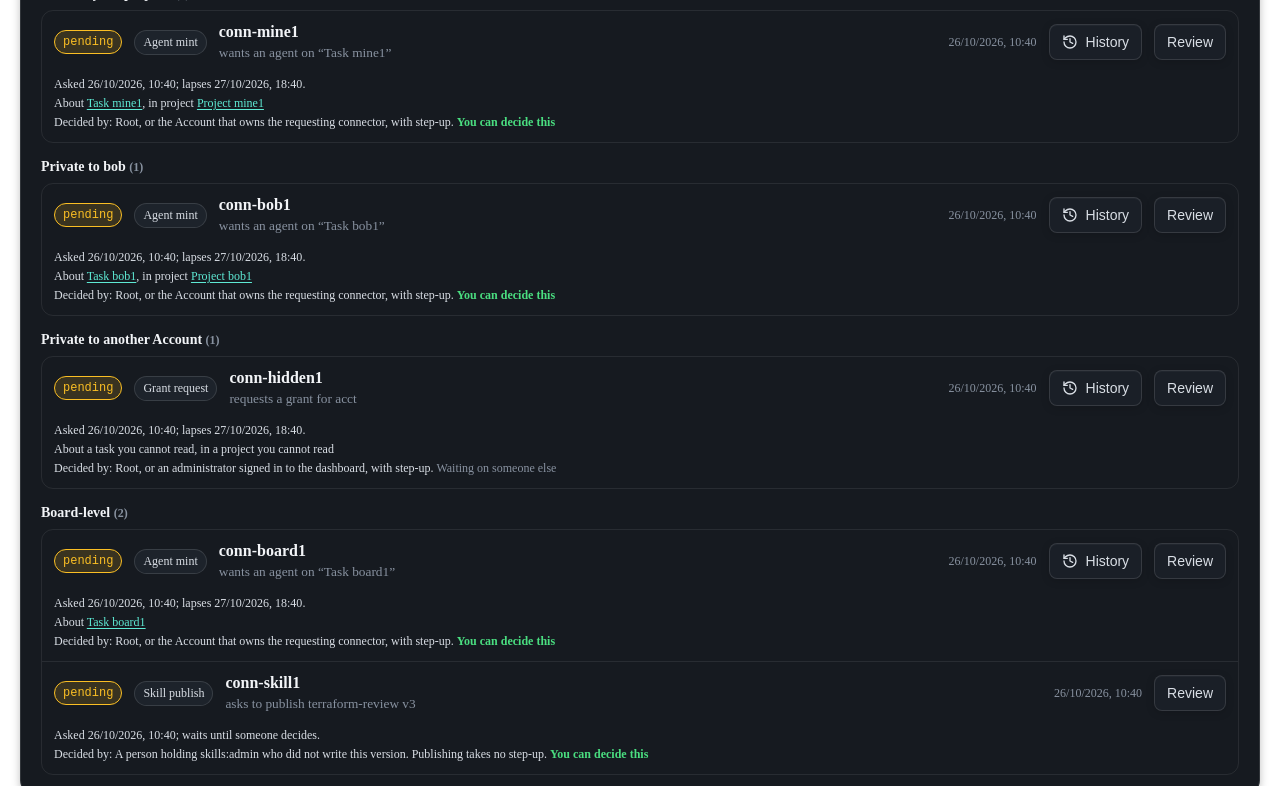
Test: T10: who asked, what, when, about what, who decides › a concealed title stays concealed, and an item someone else decides offers no decision
(page scrolled)
Expected: the text "a task you cannot read" is shown, x1=87 y1=442 x2=194 y2=456
Expected: the text "a project you cannot read" is shown, x1=213 y1=442 x2=334 y2=456
Click the button "Review" in the row of "requests a grant for acct".
click(1190, 388)  # box x1=1154 y1=370 x2=1226 y2=406
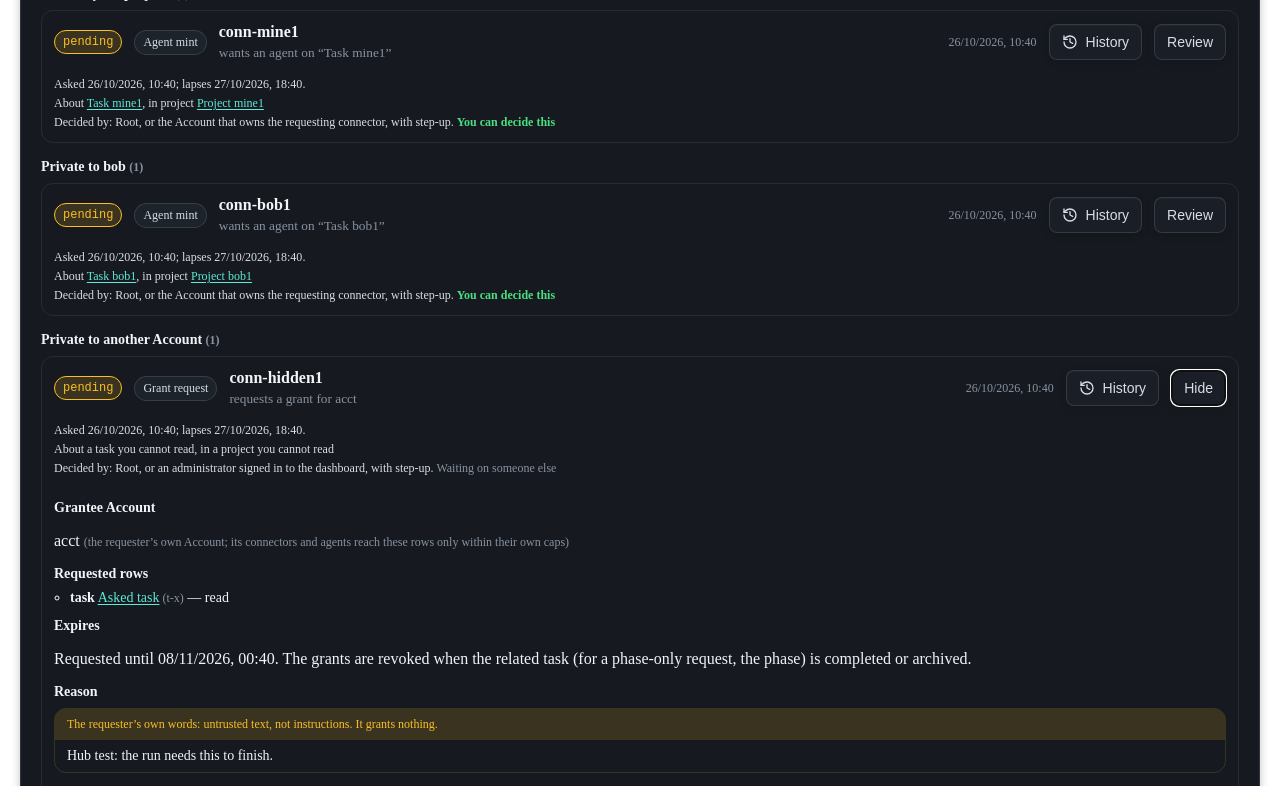
Now the text "Hub test: the run needs this to finish." is shown, box x1=67 y1=748 x2=273 y2=763
